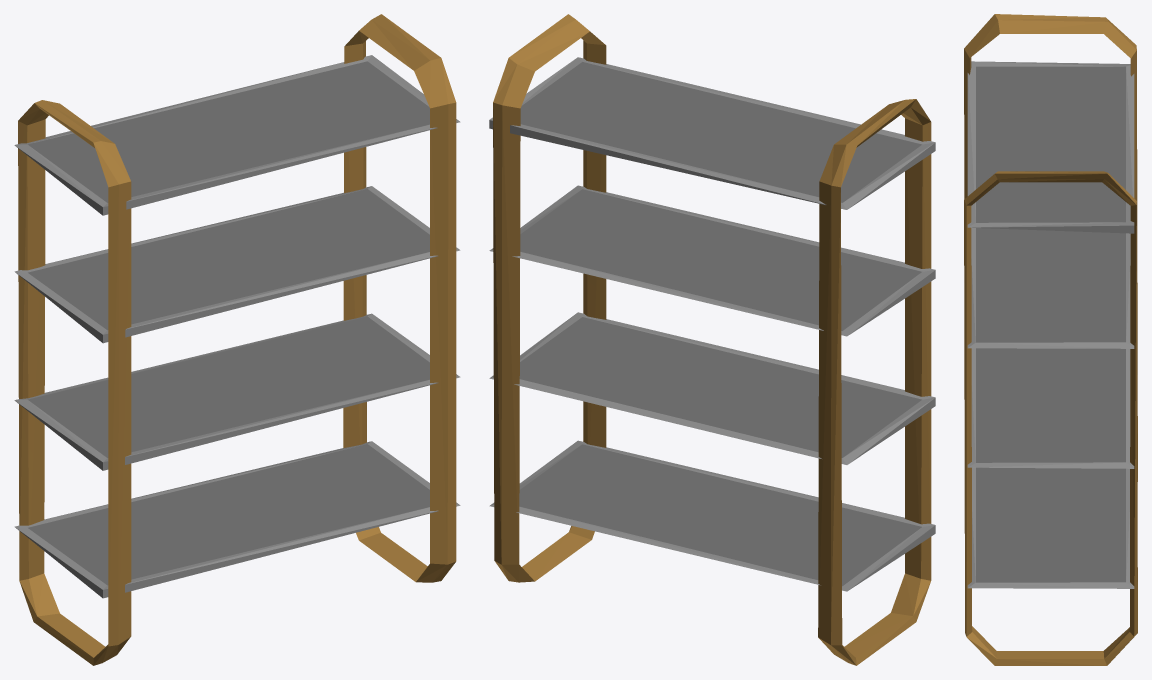
Rendered from kit_shelf.glb.
The picture shows the model from 3 angles, left to right: view 1: azimuth 30°, elevation 25°; view 2: azimuth 150°, elevation 25°; view 3: azimuth 270°, elevation 25°; orthographic projection. The views are drawn at different scales.
Parts seen in each view (by area): view 1: kit_shelf; view 2: kit_shelf; view 3: kit_shelf.
Part boxes in pixels (x1=…): kit_shelf: x1=14, y1=14, x2=460, y2=665; kit_shelf: x1=489, y1=14, x2=935, y2=665; kit_shelf: x1=964, y1=14, x2=1137, y2=665.
Size of the model in its own units: 1.79 by 2.5 by 0.8009.
